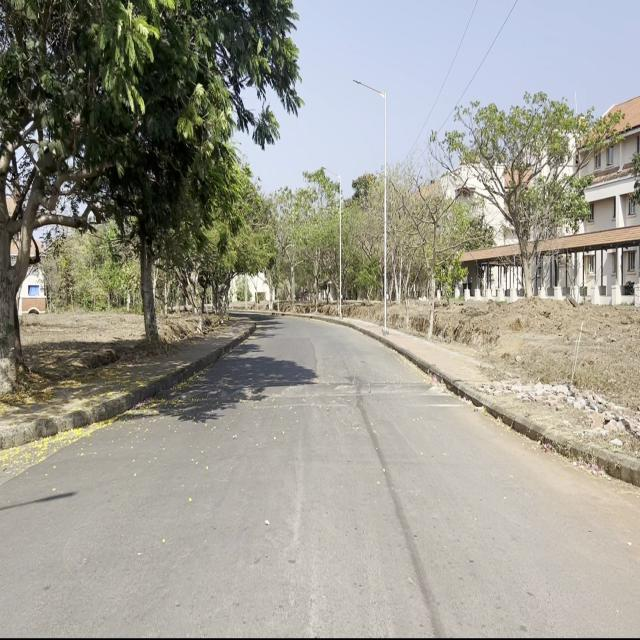Road: (2, 313, 636, 631)
